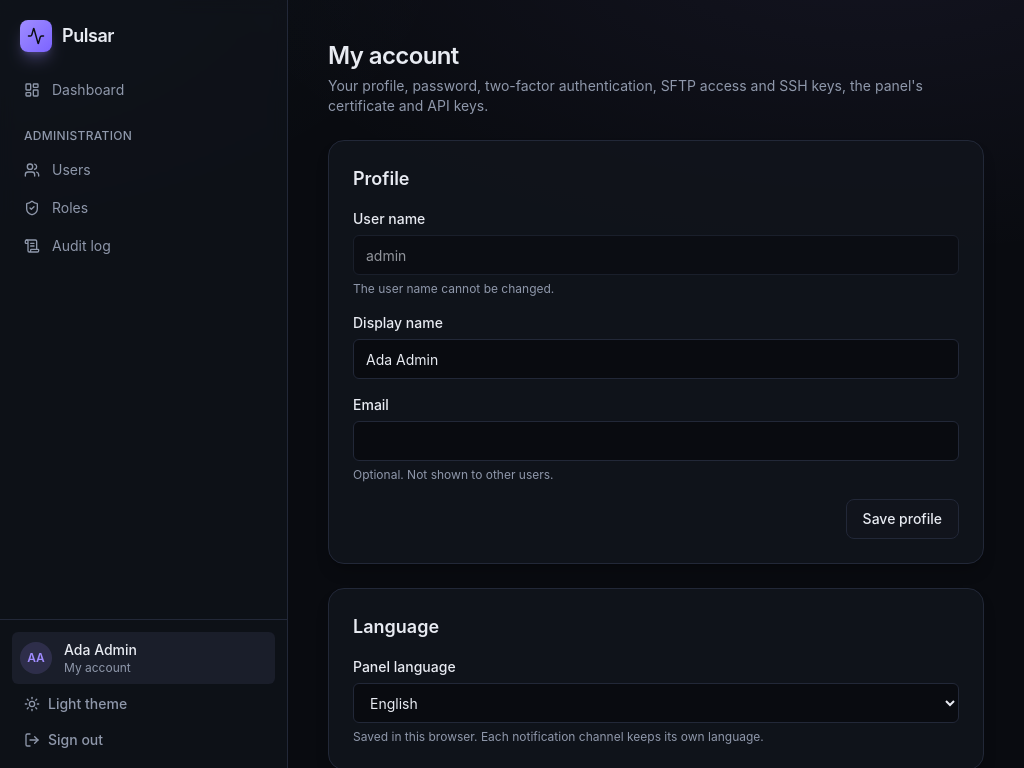
Test: account › changes the language of the interface and keeps it in this browser for the next visits
This screenshot has width=1024, height=768.
Select "Deutsch" in the dropdown labelled "Panel language": (656, 703) top-left (353, 683), bottom-right (959, 723)
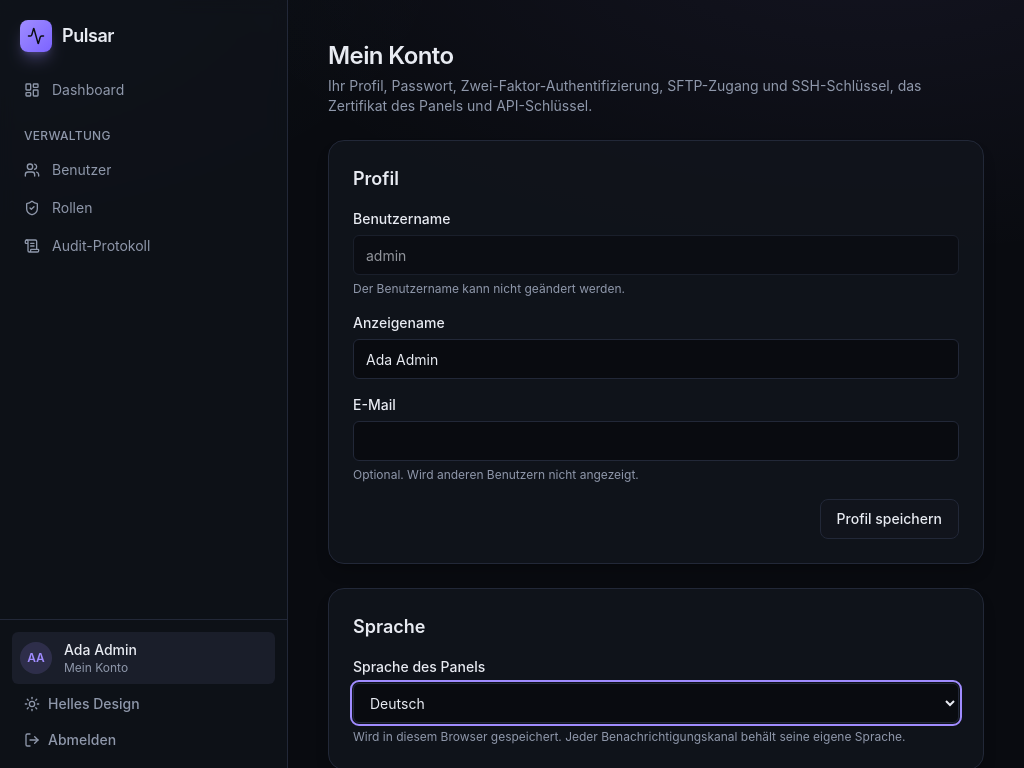
Expected: the heading "Mein Konto" is shown, top-left (328, 40), bottom-right (453, 72)
